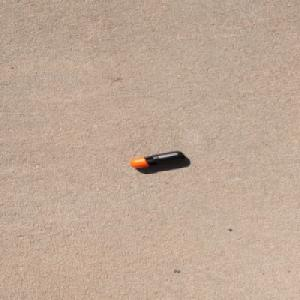PlasticPart: (128, 150, 186, 168)
